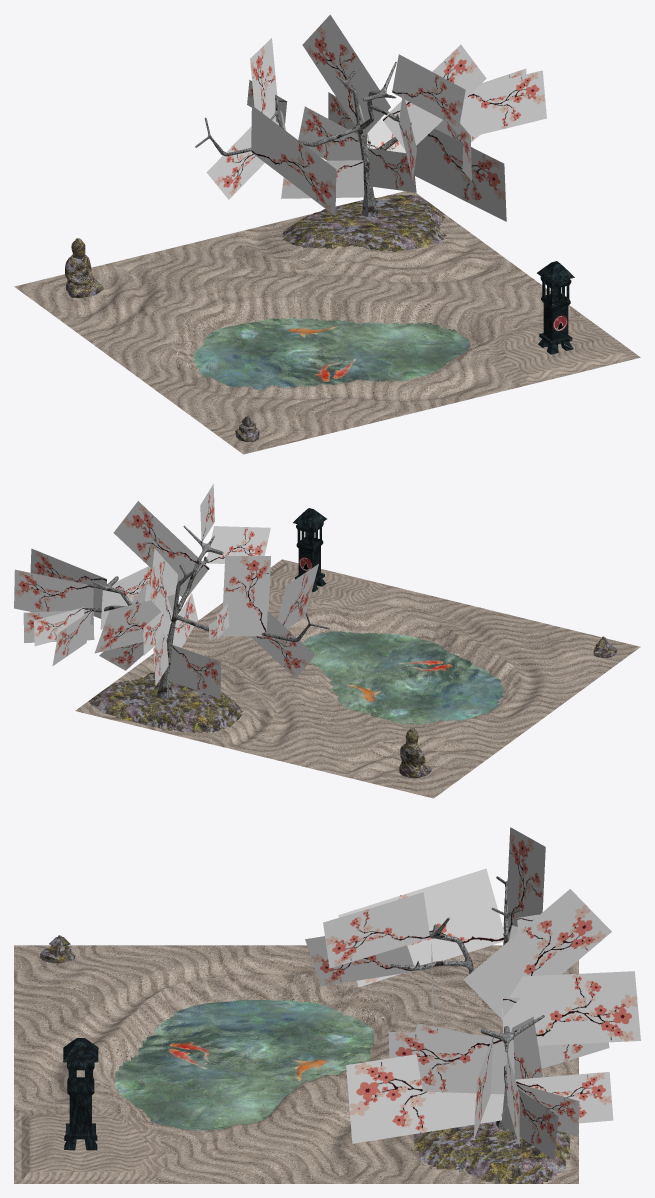
Rendered from zen_garden.glb.
The picture shows the model from 3 angles, top to bottom: view 1: azimuth 30°, elevation 25°; view 2: azimuth 150°, elevation 25°; view 3: azimuth 270°, elevation 25°; orthographic projection. The views are drawn at different scales.
Visible parts, largest first — view 1: Landscape_0; view 2: Landscape_0; view 3: Landscape_0.
Part boxes in pixels (x1,y1,x2,y2): Landscape_0: (14,14,640,454); Landscape_0: (14,484,640,798); Landscape_0: (14,827,640,1183).
Bounding box in the file's own units: 7.83 × 3.26 × 7.04.
Materials: 9 (9 with a texture image).
